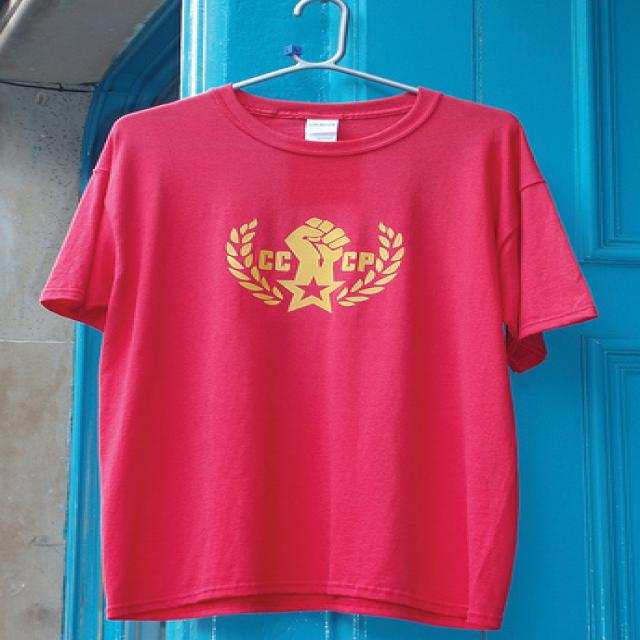T-shirt: (37, 83, 594, 635)
